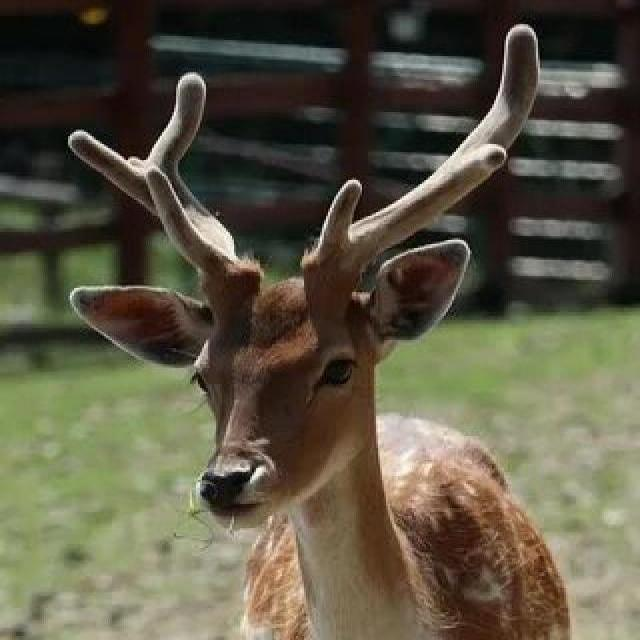deer: (22, 38, 640, 640)
